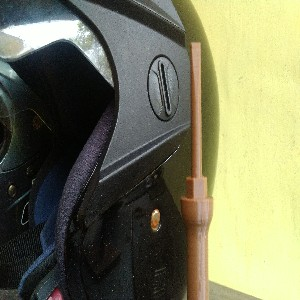obeng: (180, 40, 214, 300)
